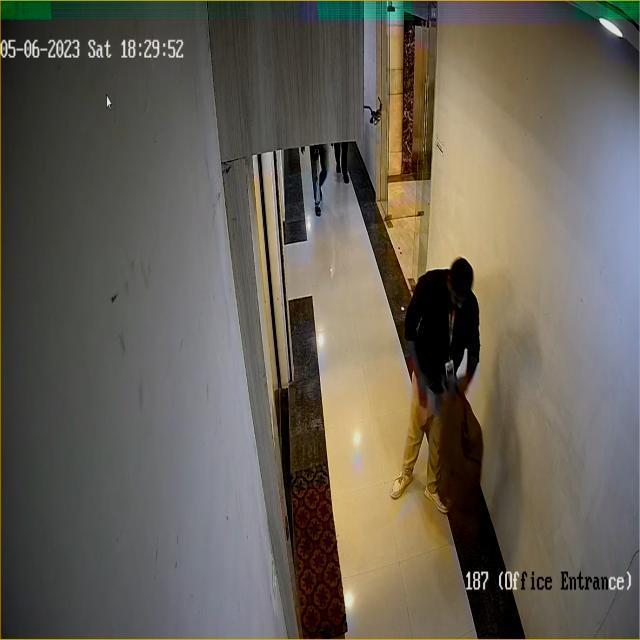gunny_bag: (428, 388, 486, 532)
